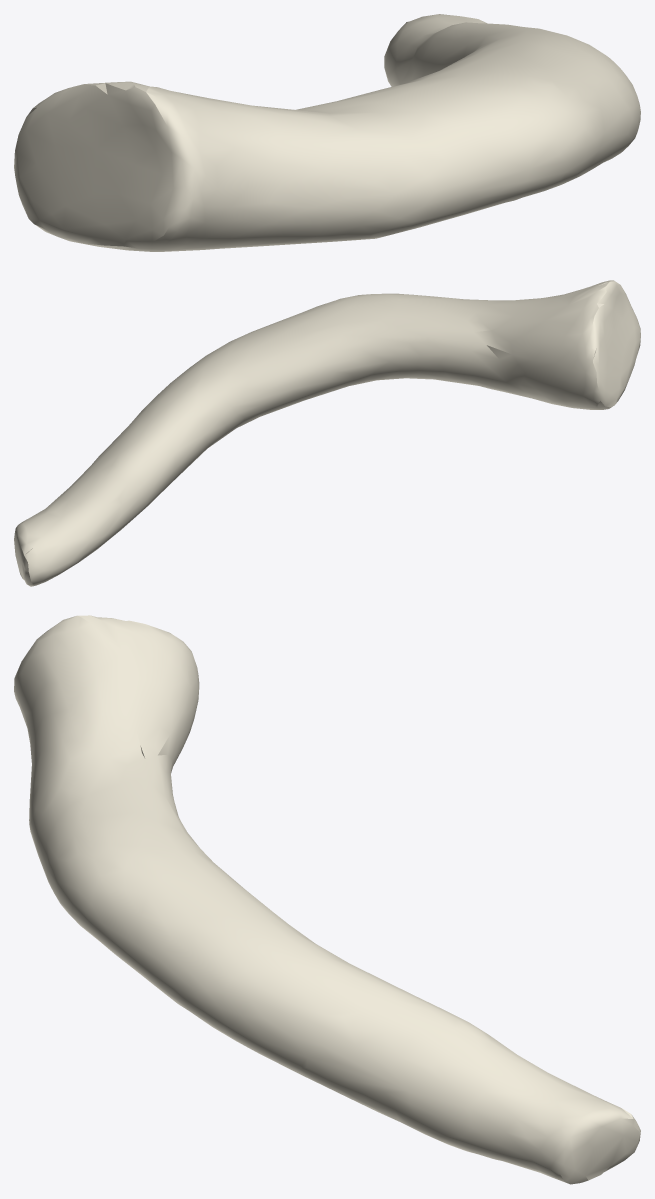
Rendered from fma323758-r_mm1427m.glb.
3 renders of one model, top to bottom at view 1: azimuth 30°, elevation 25°; view 2: azimuth 150°, elevation 25°; view 3: azimuth 270°, elevation 25°, orthographic. The views are drawn at different scales.
Visible parts, largest first — view 1: FMA323758-R_MM1427M; view 2: FMA323758-R_MM1427M; view 3: FMA323758-R_MM1427M.
Boxes of the visible parts, x1,y1,x2,y2 form: FMA323758-R_MM1427M: [14, 14, 640, 251]; FMA323758-R_MM1427M: [14, 280, 640, 586]; FMA323758-R_MM1427M: [14, 615, 640, 1184].
Size of the model in its own units: 0.0138 by 0.00733 by 0.0131.
